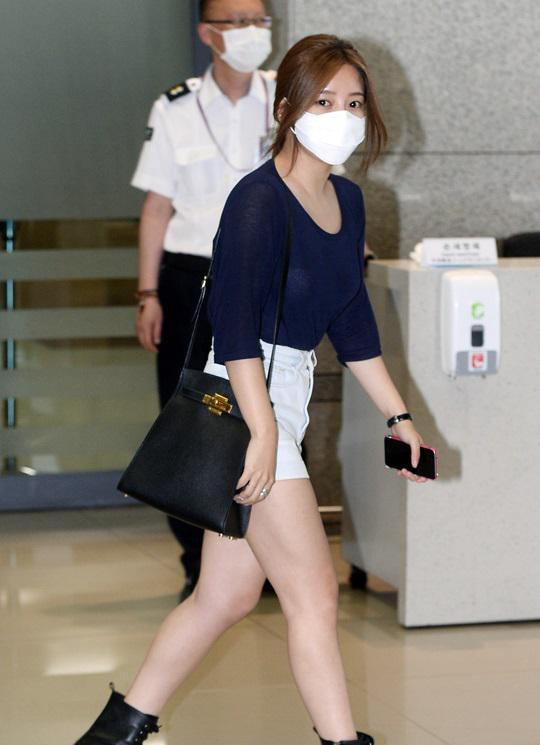OK: (293, 82, 367, 161), (213, 9, 275, 76)
